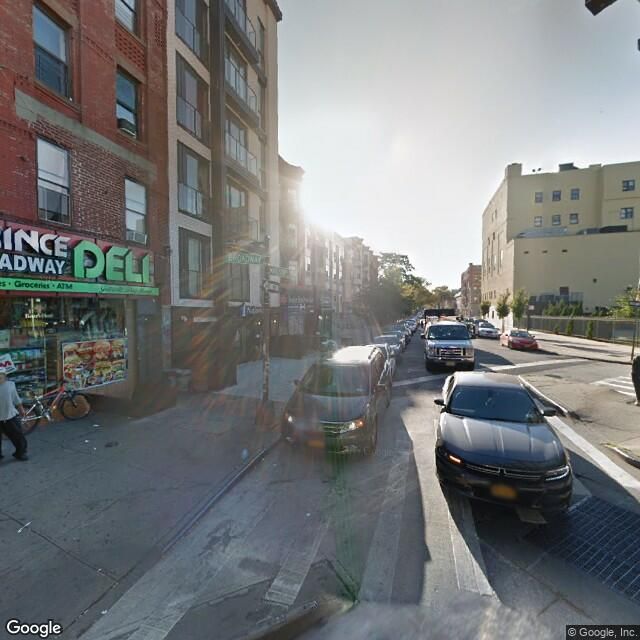litter: (11, 517, 50, 546), (72, 429, 110, 458), (91, 419, 111, 438)
